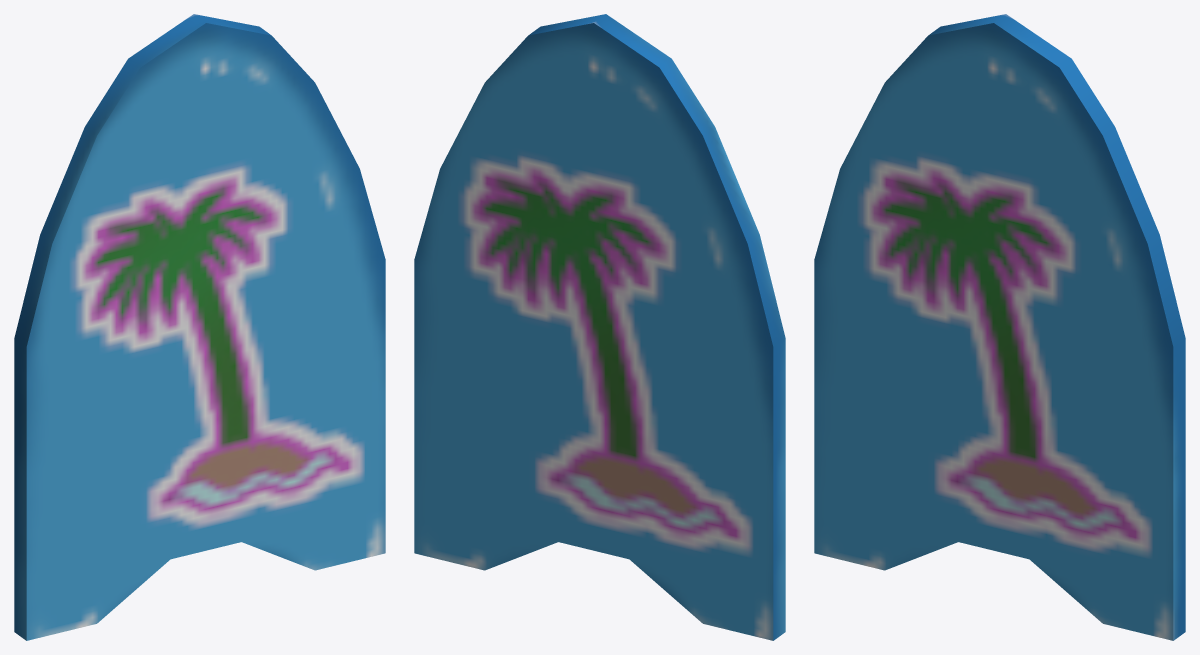
File: giftgoods002.fbx
The picture shows the model from 3 angles, left to right: view 1: azimuth 30°, elevation 25°; view 2: azimuth 150°, elevation 25°; view 3: azimuth 330°, elevation 25°; orthographic projection.
Parts seen in each view (by area): view 1: giftgoods002; view 2: giftgoods002; view 3: giftgoods002.
Boxes of the visible parts, <box> form: giftgoods002: <box>14,14,385,640</box>; giftgoods002: <box>414,14,785,640</box>; giftgoods002: <box>814,14,1185,640</box>.
Bounding box in the file's own units: 0.4558 × 0.6965 × 0.0269.
